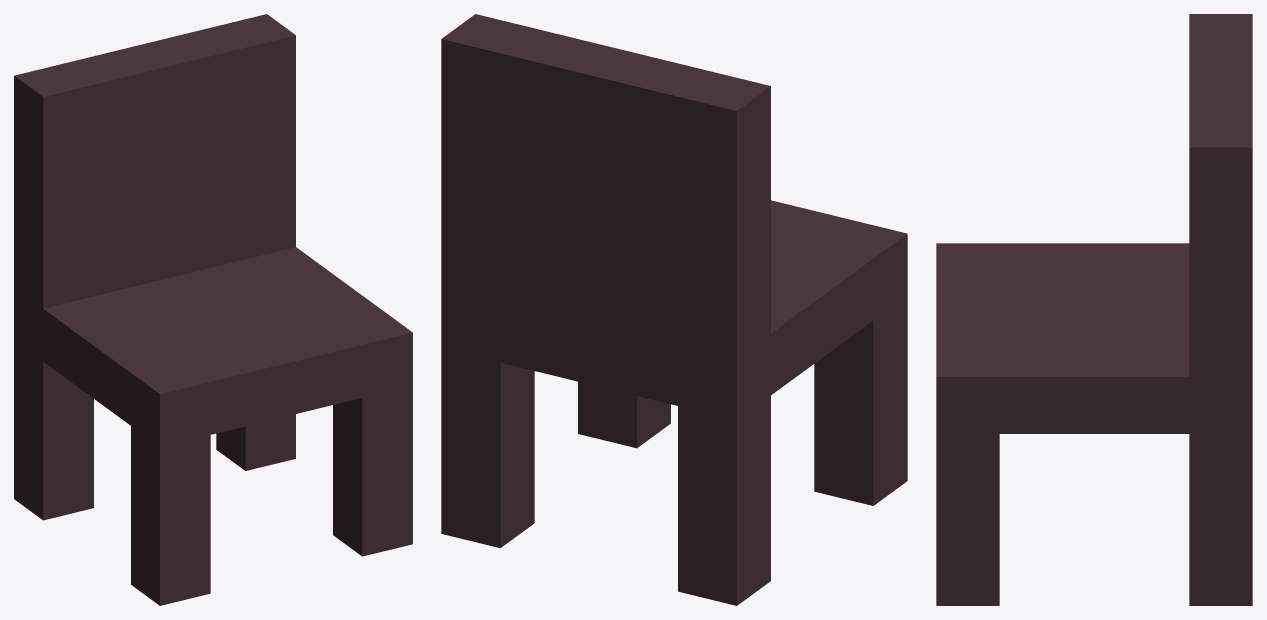
Rendered from chair_c.obj.
The picture shows the model from 3 angles, left to right: view 1: azimuth 30°, elevation 25°; view 2: azimuth 150°, elevation 25°; view 3: azimuth 270°, elevation 25°; orthographic projection. The views are drawn at different scales.
Bounding box in the file's own units: 0.5 × 0.8 × 0.5.
Materials: 1 (1 with a texture image).
